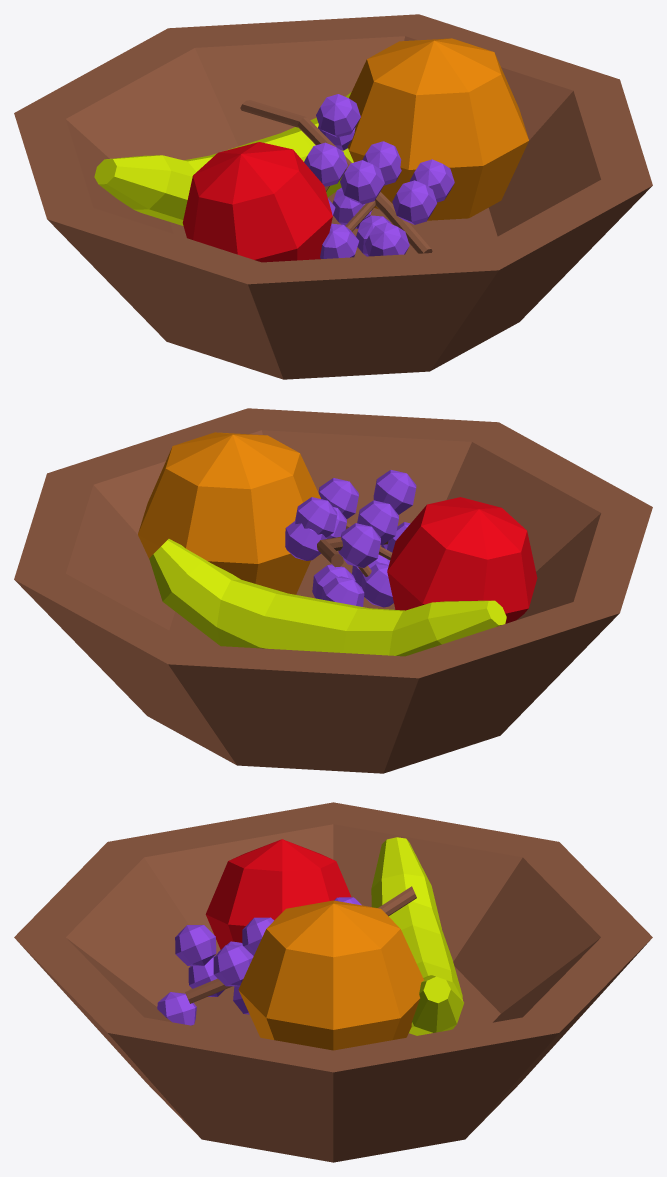
The model's file is FruitBowl.fbx.
The picture shows the model from 3 angles, top to bottom: view 1: azimuth 30°, elevation 25°; view 2: azimuth 150°, elevation 25°; view 3: azimuth 270°, elevation 25°; orthographic projection. The views are drawn at different scales.
Visible parts, largest first — view 1: Cylinder; view 2: Cylinder; view 3: Cylinder.
Boxes of the visible parts, x1,y1,x2,y2 form: Cylinder: (14, 14, 652, 379); Cylinder: (14, 408, 652, 773); Cylinder: (14, 802, 652, 1162).
Size of the model in its own units: 200 by 78.65 by 200.
